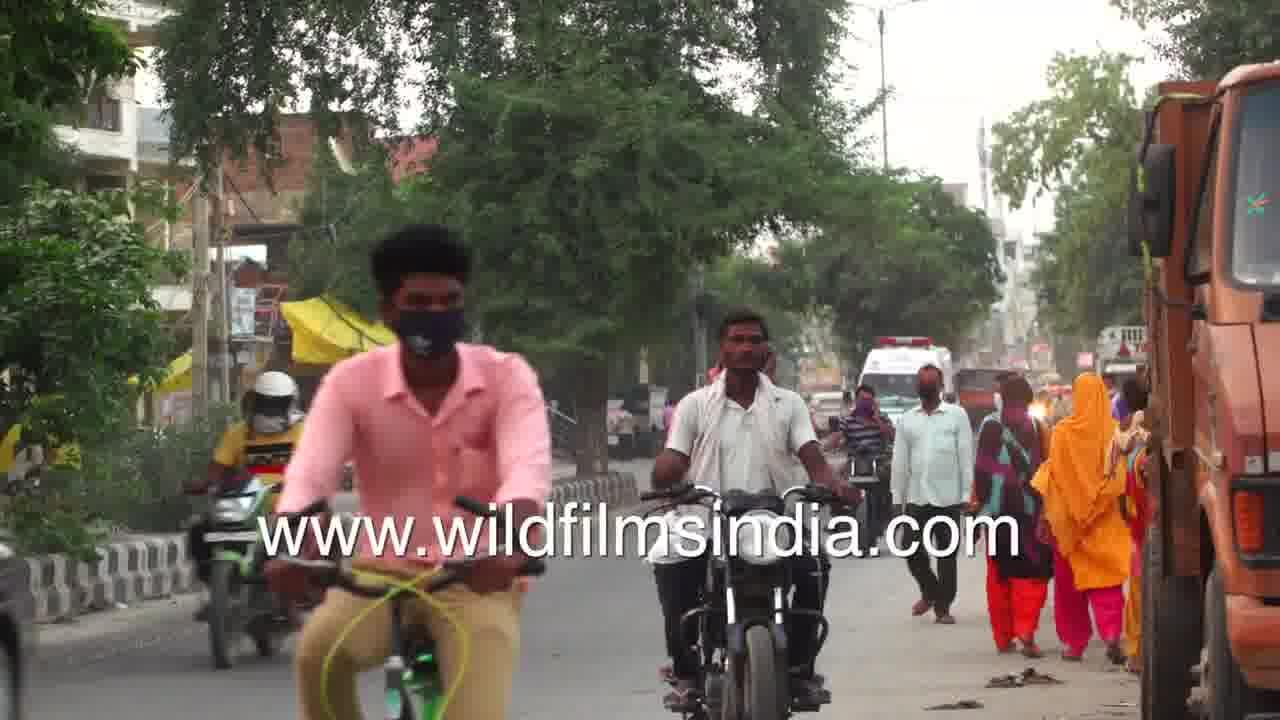AMBULANCE: (842, 326, 963, 379)
